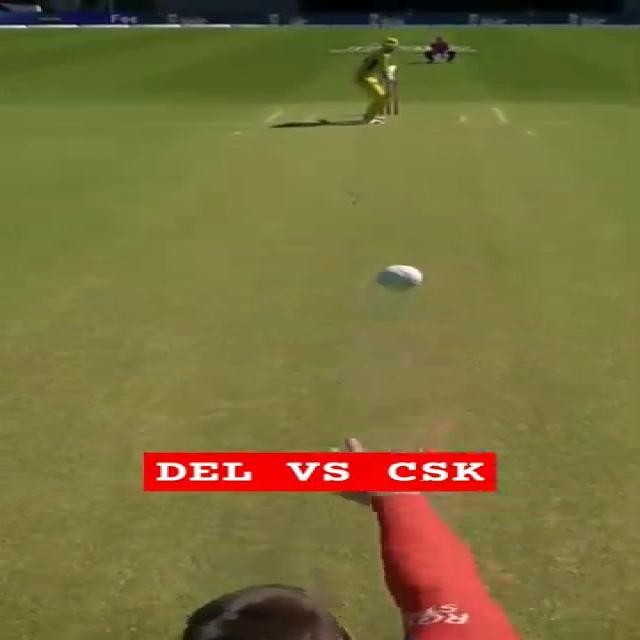ball: (368, 256, 425, 298)
